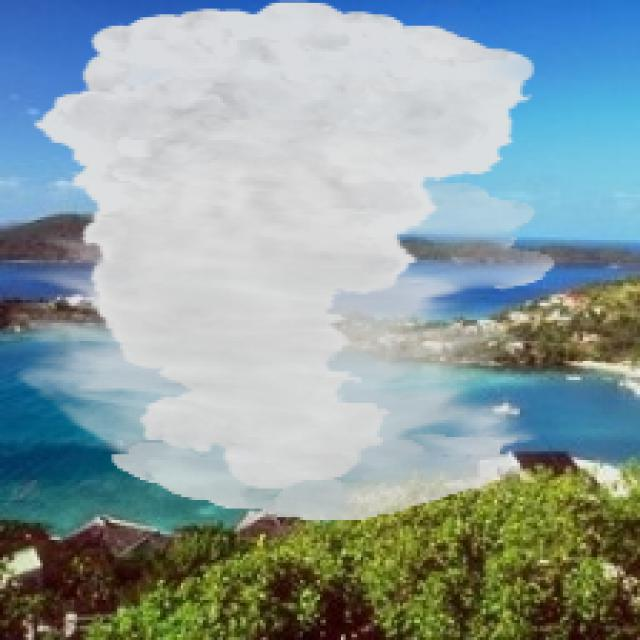Smoke: (12, 0, 554, 520)
